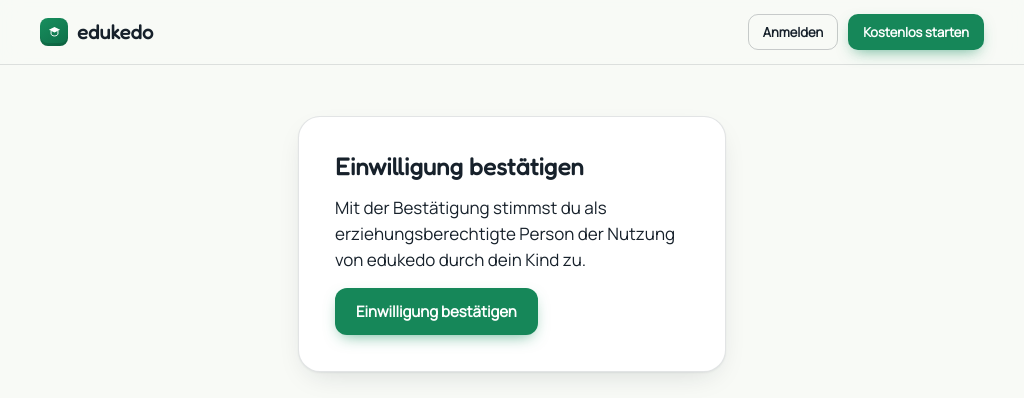
Scenario: ConsentConfirm, Zielseite des Bestätigungslinks (F-08, Review WEB-11) › zeigt den Fehler eines ungültigen oder abgelaufenen Links
Click the button "Einwilligung bestätigen": (436, 311) [335,288,538,335]
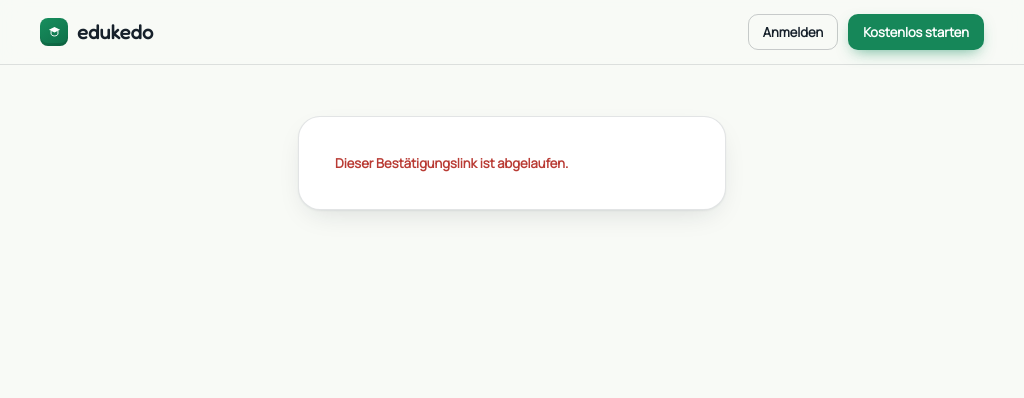
expect the text "Dieser Bestätigungslink ist abgelaufen." is shown: met, box [335,154,568,172]
